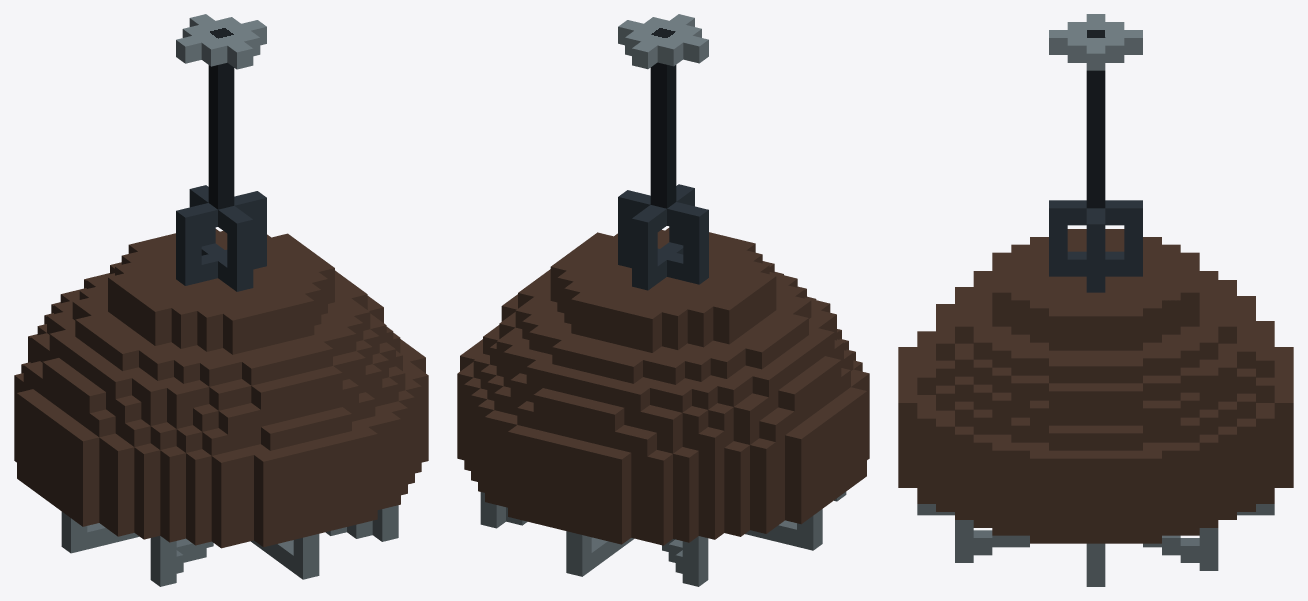
File: lampa_6.dae
3 renders of one model, left to right at view 1: azimuth 30°, elevation 25°; view 2: azimuth 150°, elevation 25°; view 3: azimuth 270°, elevation 25°, orthographic.
Visible parts, largest first — view 1: Content; view 2: Content; view 3: Content.
Part boxes in pixels (bbox=[...]): Content: bbox=[14, 14, 428, 586]; Content: bbox=[457, 14, 869, 586]; Content: bbox=[898, 14, 1293, 586].
Bounding box in the file's own units: 21 × 28 × 21.
Materials: 1 (1 with a texture image).
